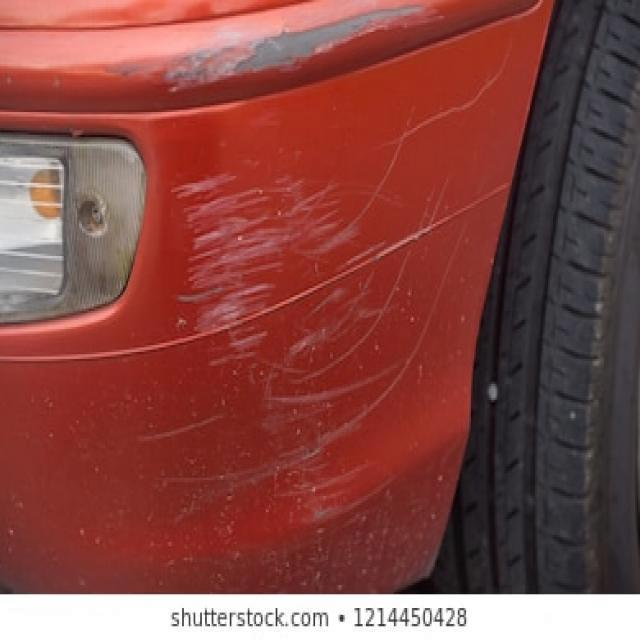minor: (385, 78, 500, 159)
moderate: (171, 174, 432, 503), (165, 16, 411, 85)
